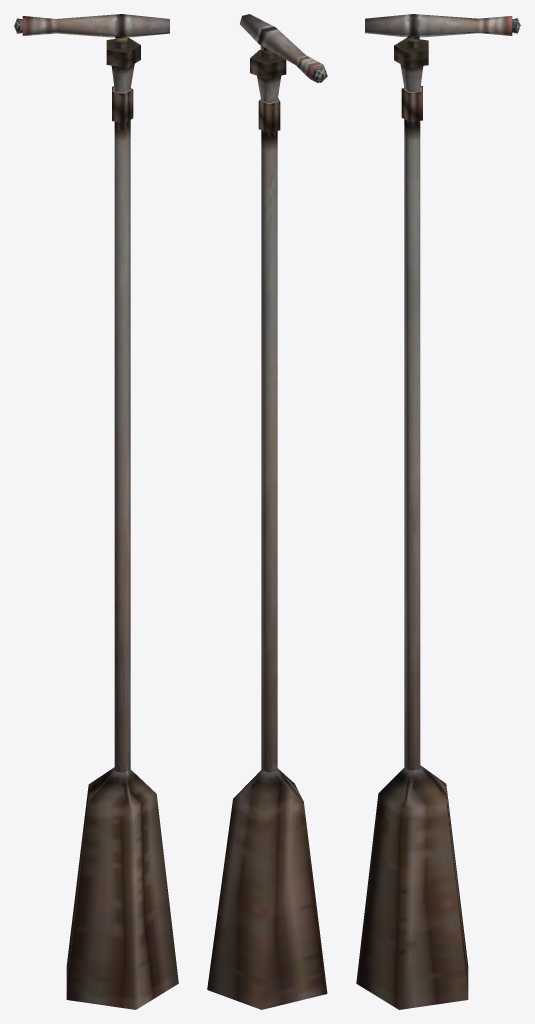
The model's file is eqp_music_microphone_s1_l0.fbx.
3 views of the same model, side by side, from view 1: azimuth 90°, elevation 25°; view 2: azimuth 210°, elevation 25°; view 3: azimuth 270°, elevation 25° (orthographic).
Visible parts, largest first — view 1: mesh_node; view 2: mesh_node; view 3: mesh_node.
Part boxes in pixels (left/top/right/bottom): mesh_node: left=14, top=14, right=178, bottom=1009; mesh_node: left=207, top=14, right=327, bottom=1009; mesh_node: left=356, top=14, right=520, bottom=1009.
Bounding box in the file's own units: 0.165 × 1.41 × 0.2177.
1 material, 1 textured.
